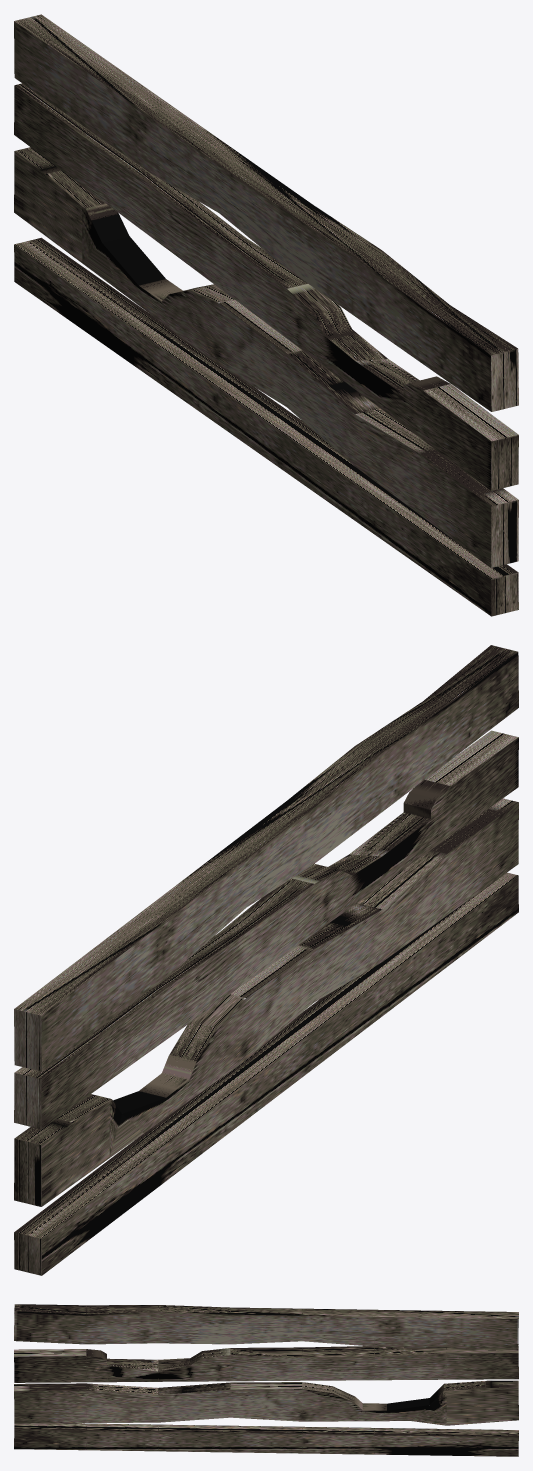
File: Planks.fbx
3 views of the same model, one above another, from view 1: azimuth 30°, elevation 25°; view 2: azimuth 150°, elevation 25°; view 3: azimuth 270°, elevation 25° (orthographic). The views are drawn at different scales.
Visible parts, largest first — view 1: Planks; view 2: Planks; view 3: Planks.
Part boxes in pixels (x1,y1,x2,y2): Planks: (14, 14, 518, 616); Planks: (14, 645, 518, 1275); Planks: (14, 1304, 518, 1456).
Bounding box in the file's own units: 14.73 × 116 × 365.
Materials: 1 (1 with a texture image).
